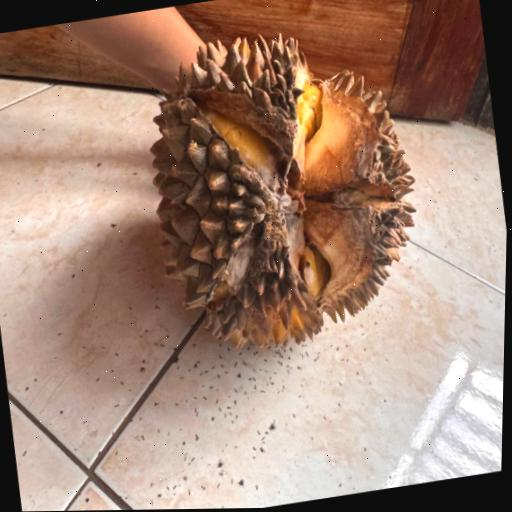rot: (70, 0, 468, 401)
